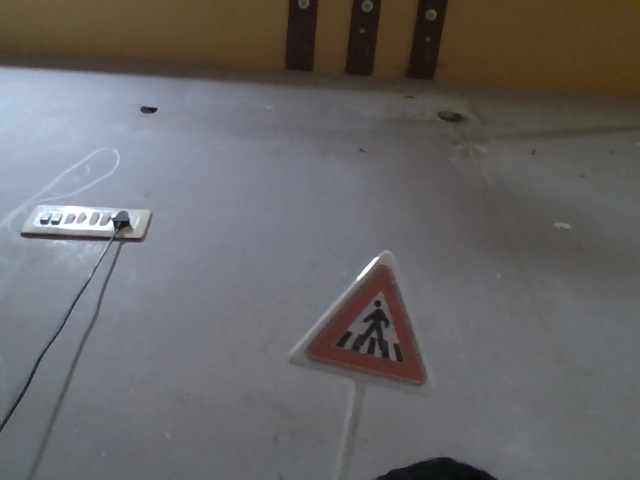crossing: (297, 246, 424, 398)
